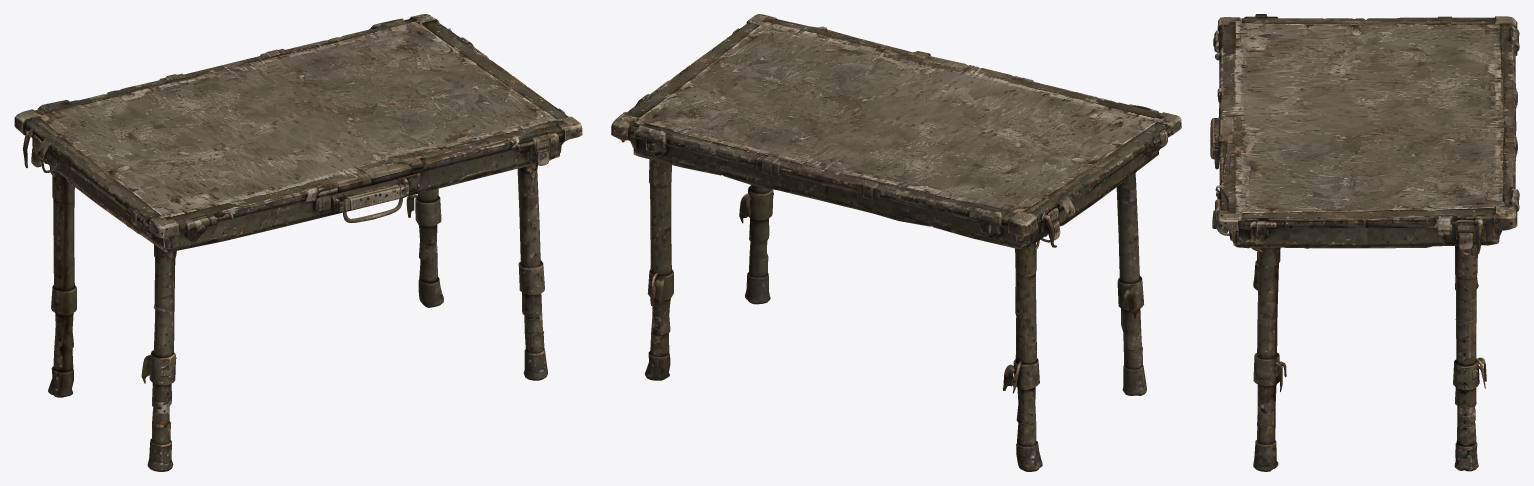
Rendered from industrial_metal_table_3d_model.fbx.
The picture shows the model from 3 angles, left to right: view 1: azimuth 30°, elevation 25°; view 2: azimuth 150°, elevation 25°; view 3: azimuth 270°, elevation 25°; orthographic projection.
Visible parts, largest first — view 1: ff24e3b7_a637_4fcd_bedb_421ffdcadd81; view 2: ff24e3b7_a637_4fcd_bedb_421ffdcadd81; view 3: ff24e3b7_a637_4fcd_bedb_421ffdcadd81.
Part boxes in pixels (x1=…): ff24e3b7_a637_4fcd_bedb_421ffdcadd81: x1=14, y1=14, x2=582, y2=471; ff24e3b7_a637_4fcd_bedb_421ffdcadd81: x1=611, y1=14, x2=1181, y2=471; ff24e3b7_a637_4fcd_bedb_421ffdcadd81: x1=1210, y1=14, x2=1519, y2=471.
Size of the model in its own units: 0.9995 by 0.5991 by 0.6284.
1 material, 1 textured.
